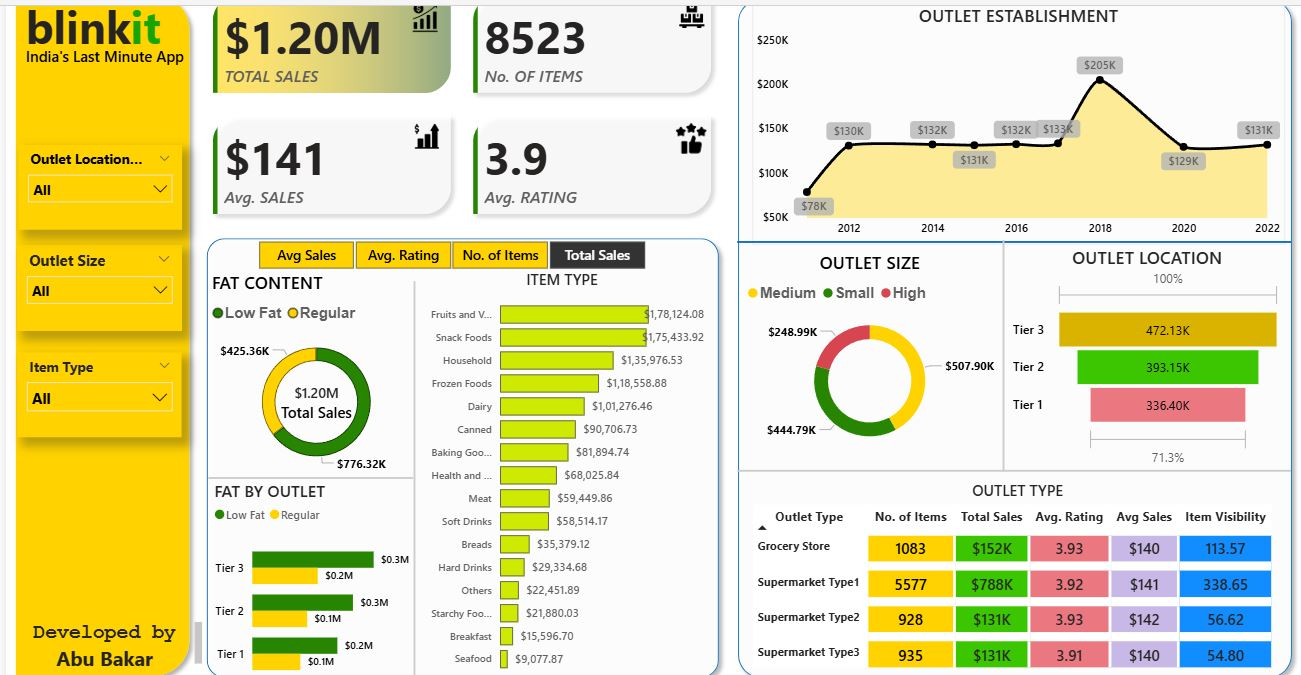

What the dashboard file says about the page in this screenshot:
{"tool":"powerbi","page":{"name":"Page 1","canvas":[1400,800],"ordinal":0},"visuals":[{"type":"shape","box":[1.3,22.8,205.1,750.7],"z":0},{"type":"textbox","box":[16.5,28.5,430.7,96.1],"z":1000},{"type":"textbox","box":[16.7,82.5,189.2,31.7],"z":2000},{"type":"cardVisual","fields":{"Data":["BlinkIT Grocery Data.Total Sales","BlinkIT Grocery Data.No. of Items","BlinkIT Grocery Data.Avg Sales","BlinkIT Grocery Data.Avg. Rating"]},"box":[205.6,15,570.3,270.2],"z":3000},{"type":"shape","box":[207.1,285.2,568.8,490.8],"z":4000},{"type":"slicer","fields":{"Values":["Metrix.Metrix"]},"box":[245.9,291.2,465.3,40.6],"z":5000},{"type":"donutChart","title":"FAT CONTENT","fields":{"Y":["BlinkIT Grocery Data.Total Sales"],"Category":["BlinkIT Grocery Data.Item Fat Content"]},"box":[216.2,328.8,235,227.5],"z":6000},{"type":"cardVisual","fields":{"Data":["BlinkIT Grocery Data.Total Sales"]},"box":[278.6,410,111.4,120],"z":7000},{"type":"clusteredBarChart","title":"FAT BY OUTLET","fields":{"Y":["BlinkIT Grocery Data.Total Sales"],"Category":["BlinkIT Grocery Data.Outlet Location Type"],"Series":["BlinkIT Grocery Data.Item Fat Content"]},"box":[218.6,554.3,220,230],"z":8000},{"type":"shape","box":[218.3,416.7,220,270],"z":9000},{"type":"shape","box":[330,340,220,424.3],"z":10000},{"type":"barChart","title":"ITEM TYPE","fields":{"Y":["BlinkIT Grocery Data.Total Sales"],"Category":["BlinkIT Grocery Data.Item Type"]},"box":[440,326.7,316.7,445],"z":11000},{"type":"shape","box":[778.9,28.5,613.9,747.4],"z":12000},{"type":"lineChart","title":"OUTLET ESTABLISHMENT","fields":{"Category":["BlinkIT Grocery Data.Outlet Establishment Year"],"Y":["BlinkIT Grocery Data.Total Sales"]},"box":[803,42,573.3,259.6],"z":13000},{"type":"shape","box":[786.5,148.6,595.8,300.2],"z":14000},{"type":"donutChart","title":"OUTLET SIZE","fields":{"Y":["BlinkIT Grocery Data.Total Sales"],"Category":["BlinkIT Grocery Data.Outlet Size"]},"box":[792.5,306.2,274.7,225.1],"z":15000},{"type":"shape","box":[963.6,295.7,220.6,249.1],"z":16000},{"type":"funnel","title":"OUTLET LOCATION","fields":{"Y":["Sum(BlinkIT Grocery Data.Sales)"],"Category":["BlinkIT Grocery Data.Outlet Location Type"]},"box":[1079.1,301.7,298.7,243.1],"z":17000},{"type":"pivotTable","title":"OUTLET TYPE","fields":{"Values":["BlinkIT Grocery Data.No. of Items","BlinkIT Grocery Data.Total Sales","BlinkIT Grocery Data.Avg. Rating","BlinkIT Grocery Data.Avg Sales","Sum(BlinkIT Grocery Data.Item Visibility)"],"Rows":["BlinkIT Grocery Data.Outlet Type"]},"box":[798.5,553.8,579.3,207.1],"z":18000},{"type":"shape","box":[786.5,420.2,595.8,249.1],"z":19000},{"type":"slicer","fields":{"Values":["BlinkIT Grocery Data.Outlet Location Type"]},"box":[13.5,193.6,175.6,91.6],"z":20000},{"type":"slicer","fields":{"Values":["BlinkIT Grocery Data.Outlet Size"]},"box":[12,301.7,177.1,93.1],"z":21000},{"type":"slicer","fields":{"Values":["BlinkIT Grocery Data.Item Type"]},"box":[12,417.2,177.1,91.6],"z":22000},{"type":"textbox","box":[5.4,702.4,210.5,59],"z":23000},{"type":"image","box":[425,35.8,52.5,40.8],"z":24000},{"type":"image","box":[719.2,35.8,37.5,36.7],"z":25000},{"type":"image","box":[428.3,165,50,37.5],"z":26000},{"type":"image","box":[713.1,164.9,48.3,42.9],"z":27000}]}

Visuals, with their boxes on the page's 1400x800 design canvas (x1, y1, x2, y2). These are canvas units, not pixel positions in the 1301x675 screenshot, which may show the page scaled, cropped or inside an application window:
shape: <box>1,23,206,774</box>
textbox: <box>16,28,447,125</box>
textbox: <box>17,82,206,114</box>
cardVisual - BlinkIT Grocery Data.Total Sales x BlinkIT Grocery Data.No. of Items: <box>206,15,776,285</box>
shape: <box>207,285,776,776</box>
slicer - Metrix.Metrix: <box>246,291,711,332</box>
"FAT CONTENT" donutChart: <box>216,329,451,556</box>
cardVisual - BlinkIT Grocery Data.Total Sales: <box>279,410,390,530</box>
"FAT BY OUTLET" clusteredBarChart: <box>219,554,439,784</box>
shape: <box>218,417,438,687</box>
shape: <box>330,340,550,764</box>
"ITEM TYPE" barChart: <box>440,327,757,772</box>
shape: <box>779,28,1393,776</box>
"OUTLET ESTABLISHMENT" lineChart: <box>803,42,1376,302</box>
shape: <box>786,149,1382,449</box>
"OUTLET SIZE" donutChart: <box>792,306,1067,531</box>
shape: <box>964,296,1184,545</box>
"OUTLET LOCATION" funnel: <box>1079,302,1378,545</box>
"OUTLET TYPE" pivotTable: <box>798,554,1378,761</box>
shape: <box>786,420,1382,669</box>
slicer - BlinkIT Grocery Data.Outlet Location Type: <box>14,194,189,285</box>
slicer - BlinkIT Grocery Data.Outlet Size: <box>12,302,189,395</box>
slicer - BlinkIT Grocery Data.Item Type: <box>12,417,189,509</box>
textbox: <box>5,702,216,761</box>
image: <box>425,36,478,77</box>
image: <box>719,36,757,72</box>
image: <box>428,165,478,202</box>
image: <box>713,165,761,208</box>
